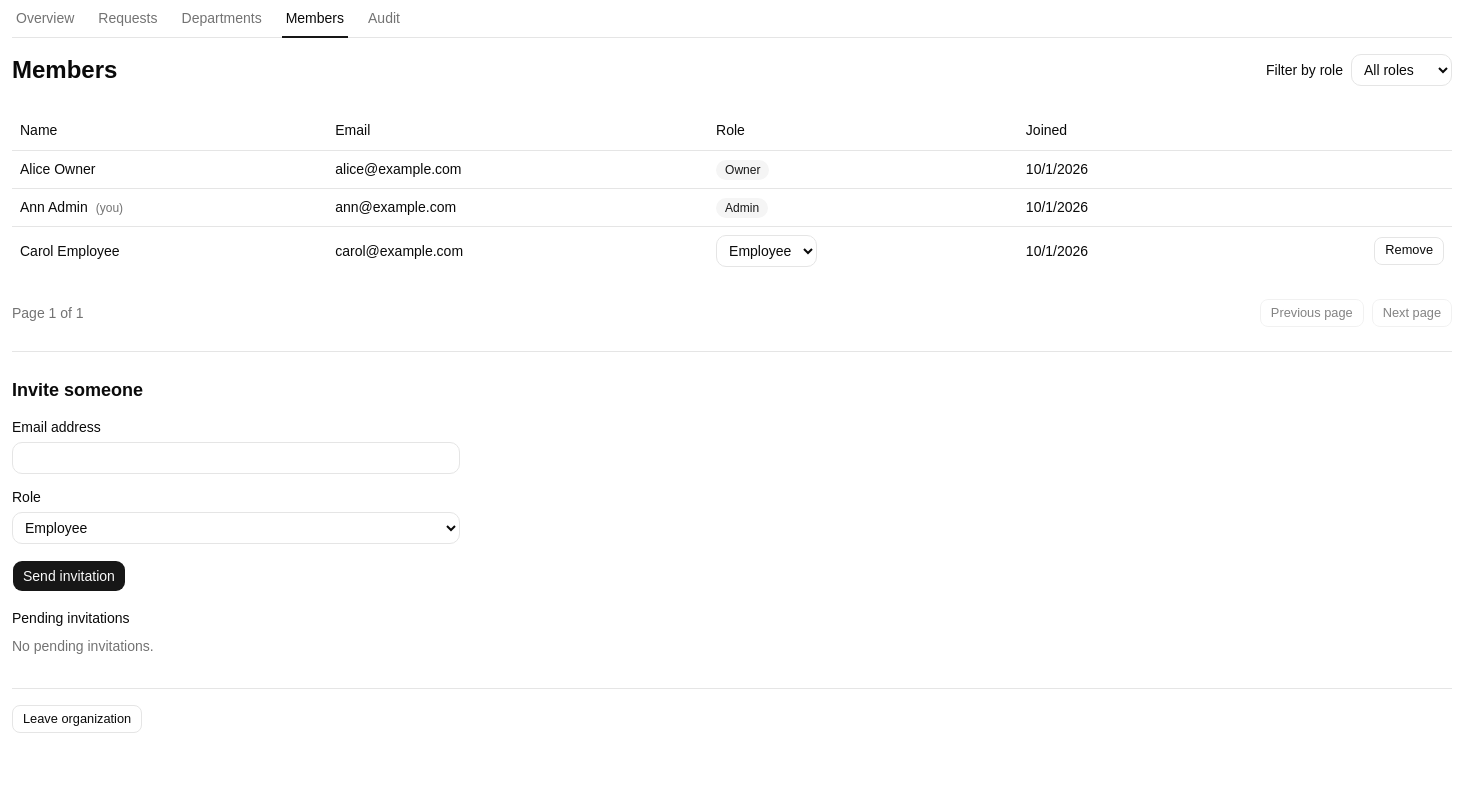
Scenario: MembersPage › explains a conflict and reloads when someone else changed the member first
Select "Manager" in the dropdown named "Role of Carol Employee" at [766, 250], box [716,234,817,266]
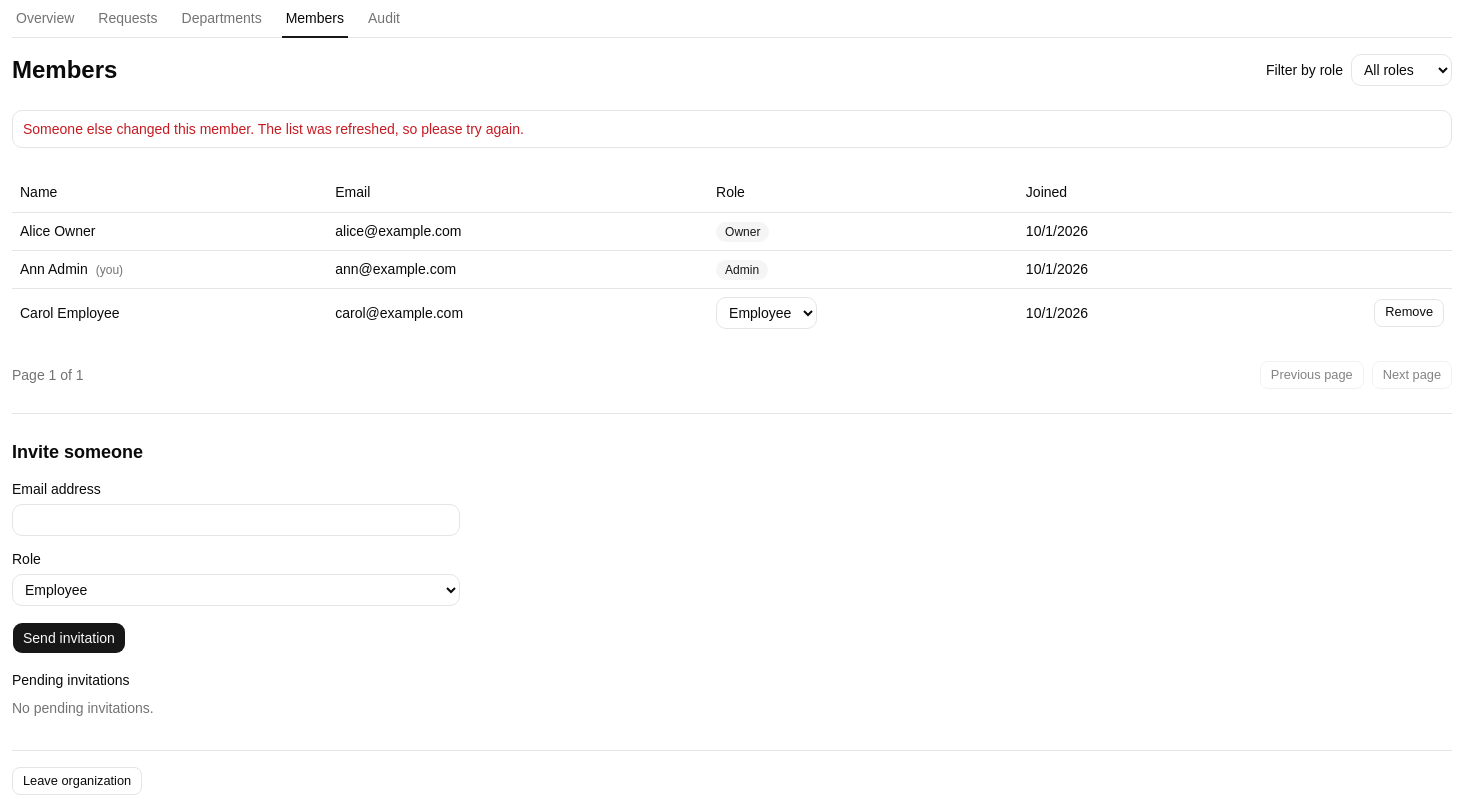
Expected: the text "Someone else changed this member" is shown, [23,121,524,137]
